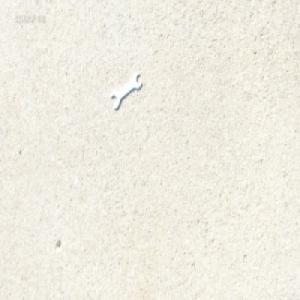Wrench: (110, 71, 143, 110)
